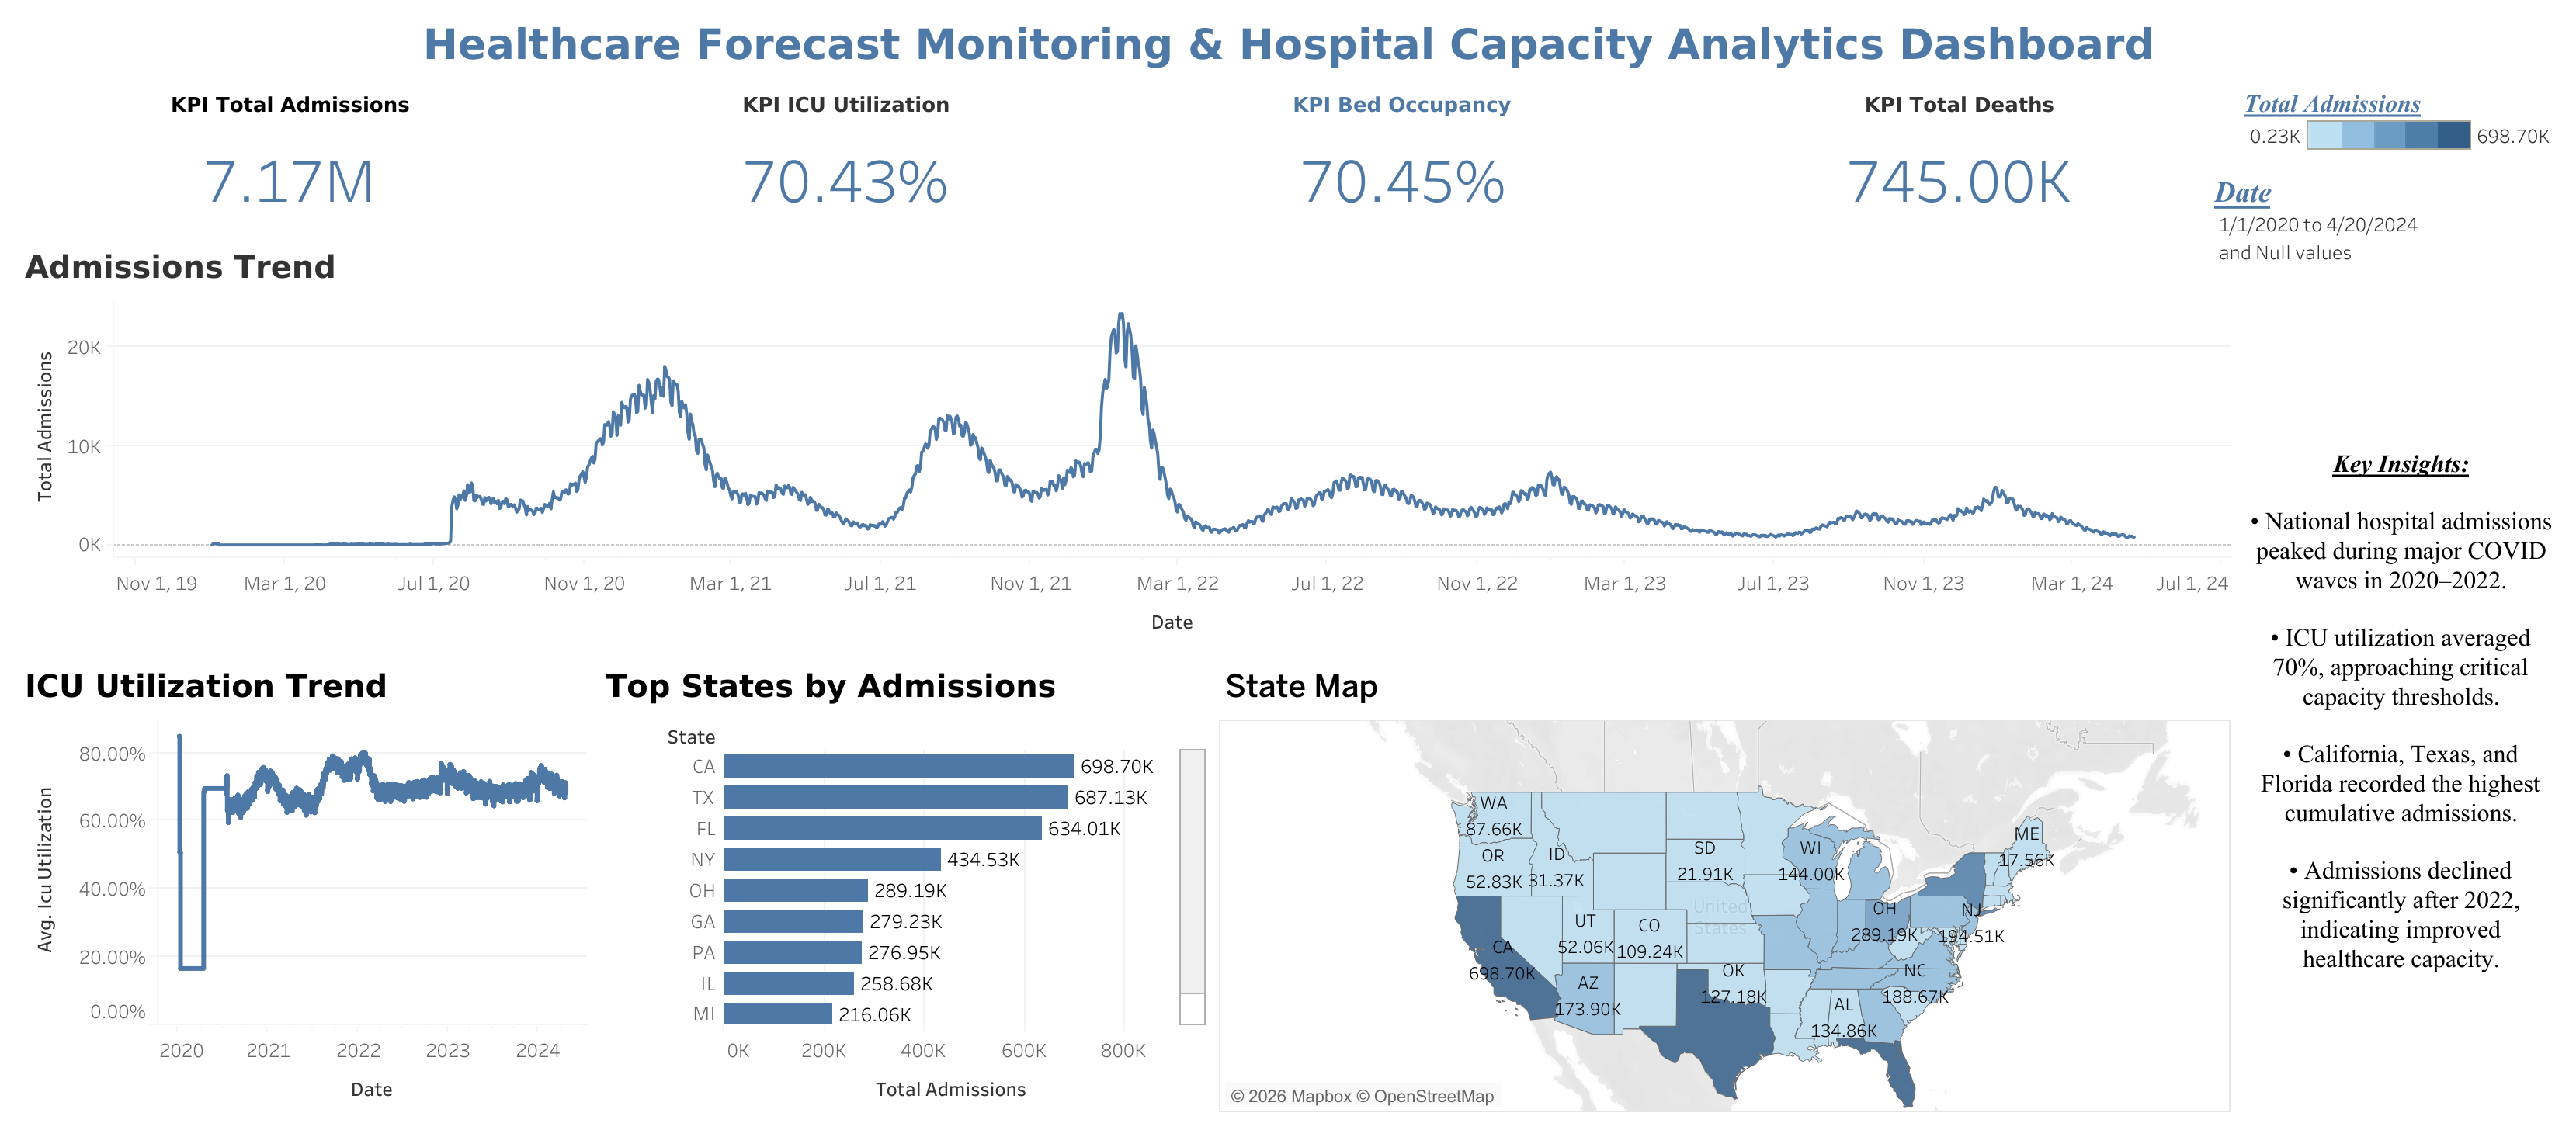

What the dashboard file says about the page in this screenshot:
{"tool":"tableau","page":{"name":"Executive Healthcare Overview","canvas":[1000,1000],"units":"permille","ordinal":1},"visuals":[{"type":"title","box":[5.3,9.3,989.3,53.5]},{"type":"worksheet","title":"KPI Total Admissions","mark":"Text","box":[5.3,62.8,212,139.6]},{"type":"worksheet","title":"KPI ICU Utilization","mark":"Automatic","box":[217.3,62.8,212.2,139.6]},{"type":"worksheet","title":"KPI Bed Occupancy","mark":"Automatic","box":[429.5,62.8,212.1,139.6]},{"type":"worksheet","title":"KPI Total Deaths","mark":"Automatic","box":[641.6,62.8,212.3,139.6]},{"type":"legend","title":"State Map","param":"[federated.0ydjcml1xupl6i15cv8nh064e1i5].[sum:total_admissions:qk]","box":[853.9,62.8,140.8,68.6]},{"type":"filter","title":"Admissions Trend","param":"[federated.0ydjcml1xupl6i15cv8nh064e1i5].[none:date:qk]","box":[859.2,153.5,129.4,100]},{"type":"worksheet","title":"Admissions Trend","mark":"Line","rows":["total_admissions"],"cols":["date"],"box":[5.3,202.4,848.6,373.2]},{"type":"text","box":[853.9,262.8,140.8,727.9]},{"type":"worksheet","title":"ICU Utilization Trend","mark":"Line","rows":["icu_utilization"],"cols":["date"],"box":[5.3,575.6,221.6,415.1]},{"type":"worksheet","title":"Top States by Admissions","mark":"Automatic","rows":["state"],"cols":["total_admissions"],"box":[227,575.6,236.4,415.1]},{"type":"worksheet","title":"State Map","mark":"Automatic","box":[463.4,575.6,390.5,415.1]}]}

Visuals, with their boxes on the dashboard's canvas, which has no fixed pixel size, in thousandths of its width and height (x1, y1, x2, y2). These are canvas units, not pixel positions in the 2576x1130 screenshot, which may show the page scaled, cropped or inside an application window:
title: <region>5, 9, 995, 63</region>
"KPI Total Admissions" worksheet (Text marks): <region>5, 63, 217, 202</region>
"KPI ICU Utilization" worksheet: <region>217, 63, 430, 202</region>
"KPI Bed Occupancy" worksheet: <region>430, 63, 642, 202</region>
"KPI Total Deaths" worksheet: <region>642, 63, 854, 202</region>
"State Map" legend: <region>854, 63, 995, 131</region>
"Admissions Trend" filter: <region>859, 154, 989, 254</region>
"Admissions Trend" worksheet (Line marks): <region>5, 202, 854, 576</region>
text: <region>854, 263, 995, 991</region>
"ICU Utilization Trend" worksheet (Line marks): <region>5, 576, 227, 991</region>
"Top States by Admissions" worksheet: <region>227, 576, 463, 991</region>
"State Map" worksheet: <region>463, 576, 854, 991</region>
